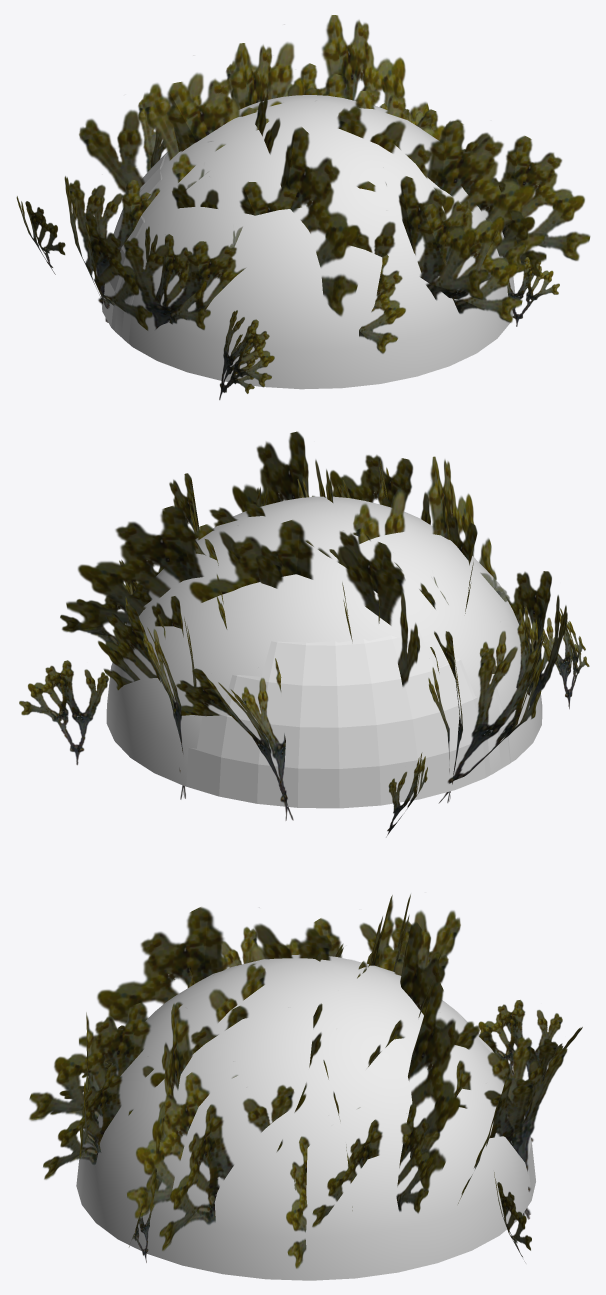
3 renders of one model, top to bottom at view 1: azimuth 30°, elevation 25°; view 2: azimuth 150°, elevation 25°; view 3: azimuth 270°, elevation 25°, orthographic. The views are drawn at different scales.
Visible parts, largest first — view 1: bladderwrack2, Sphere.006, Sphere.003; view 2: bladderwrack2, Sphere.006, Sphere.003; view 3: Sphere.006, bladderwrack2.
Part boxes in pixels (box(x1,y1,x2,y2)): bladderwrack2: box(16, 15, 590, 399); Sphere.006: box(114, 95, 515, 389); Sphere.003: box(101, 151, 168, 343); bladderwrack2: box(19, 431, 589, 837); Sphere.006: box(106, 496, 542, 786); Sphere.003: box(186, 631, 510, 808); Sphere.006: box(76, 954, 531, 1280); bladderwrack2: box(29, 894, 582, 1268).
Bounding box in the file's own units: 3.89 × 2.16 × 4.02.
2 materials, 2 textured.
